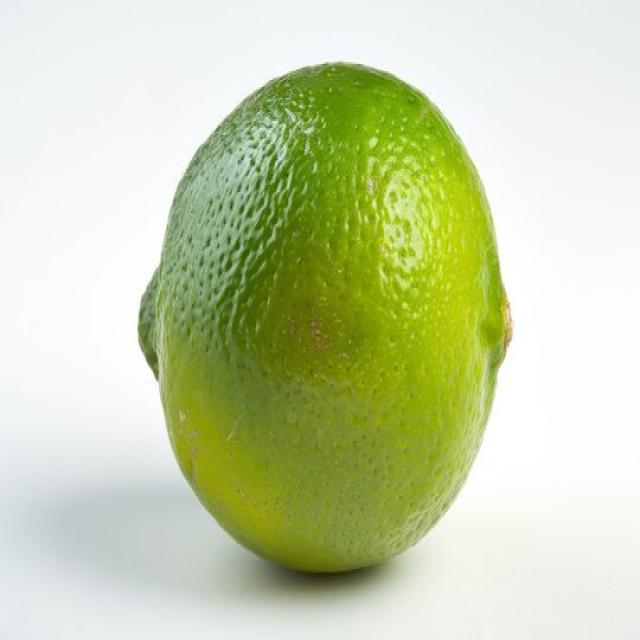Lemon: (136, 59, 513, 574)
